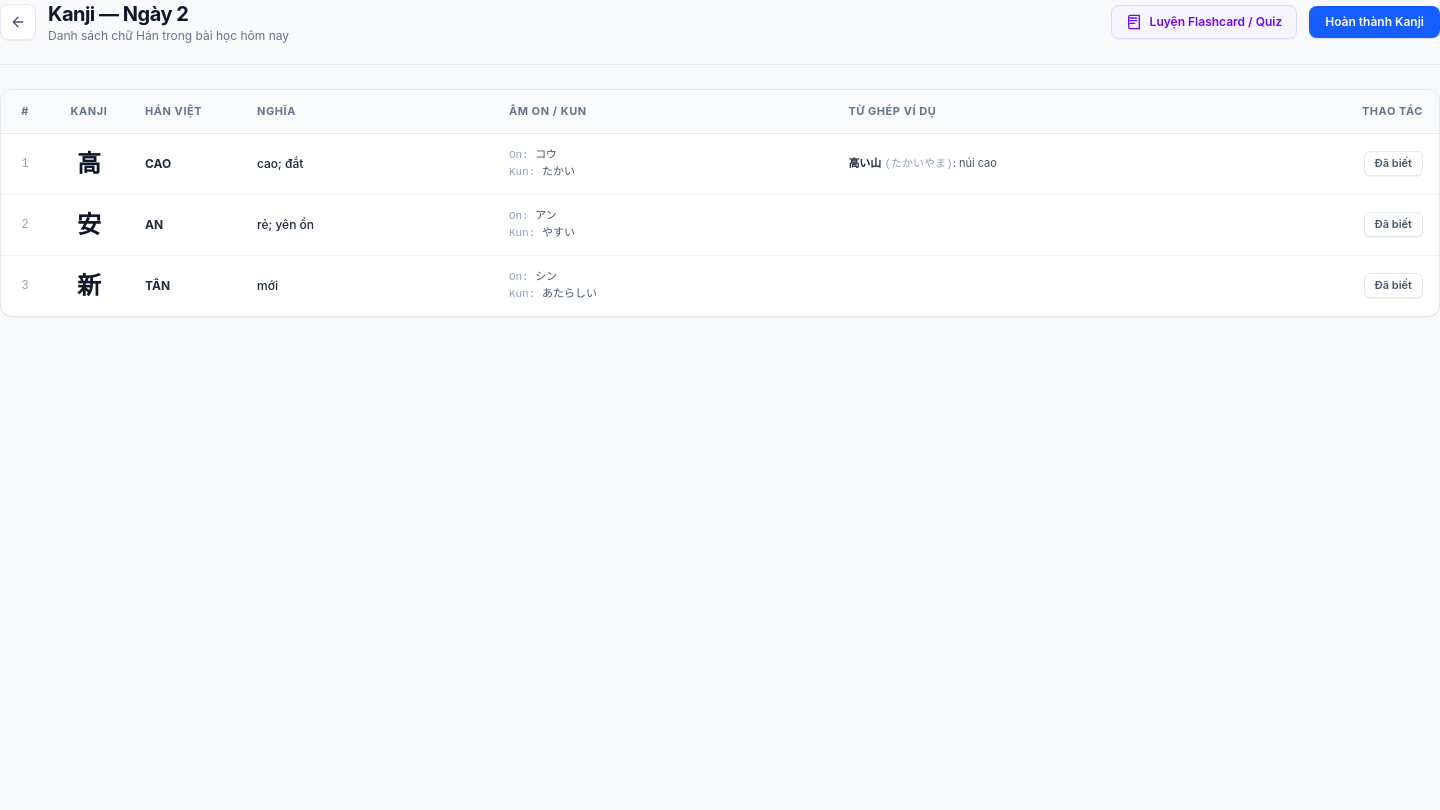
Test case: Milestone F6 — Kanji Real Interaction Tests › marks kanji known and removes only the confirmed item
Check: the row with test id "kanji-row-201" is shown, box [1,133,1439,194]
Check: the row with test id "kanji-row-202" is shown, box [1,194,1439,255]
// Click "Đã biết" for first item
Click the button "Đã biết" in the row of "cao; đắt": (1393, 164) [1364,151,1423,176]
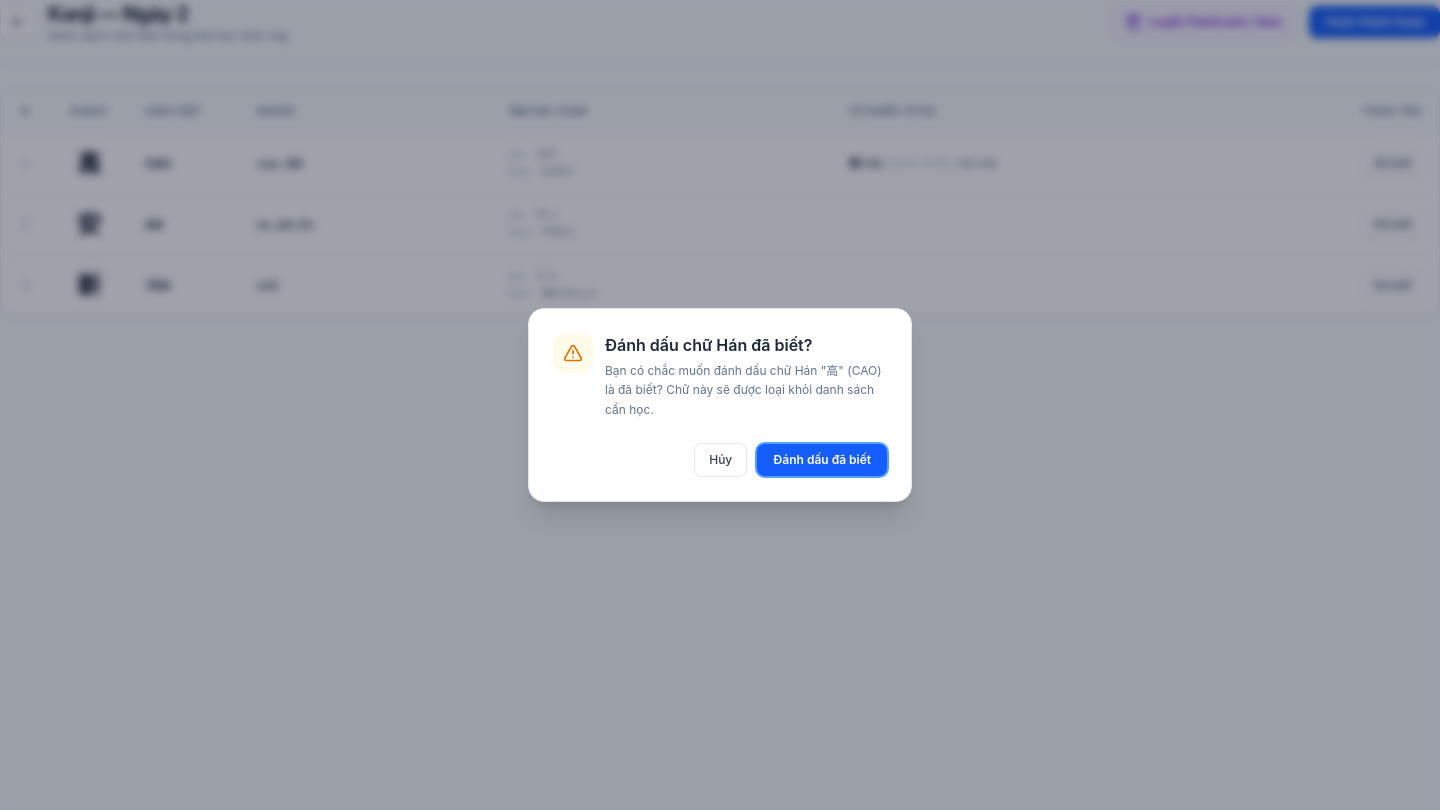
Check: the heading "Đánh dấu chữ Hán đã biết?" is shown, box [605,335,812,355]
// Confirm marking known
Click the button "Đánh dấu đã biết": (822, 460) [757,444,887,476]
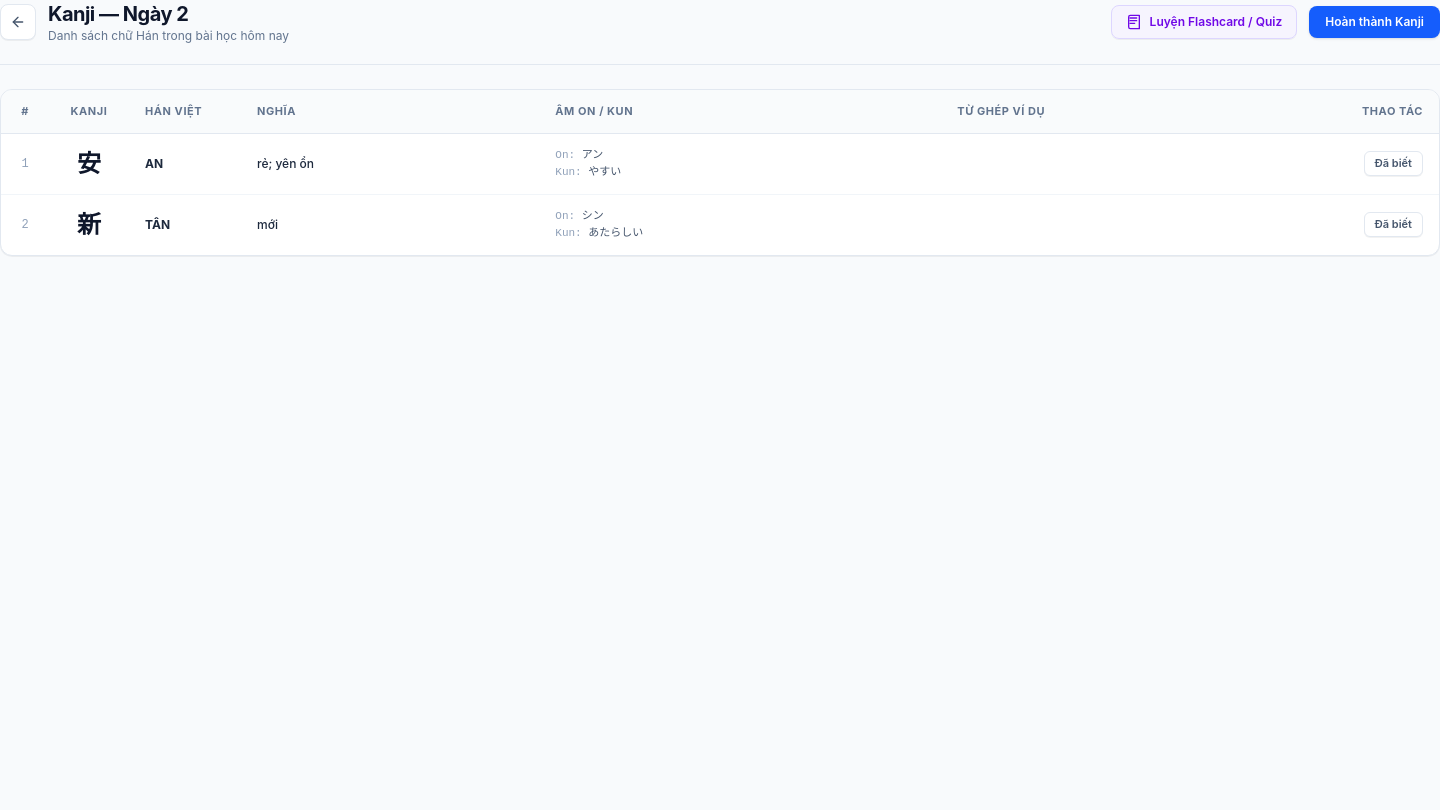
Check: the row with test id "kanji-row-202" is shown, box [1,133,1439,194]
Check: the row with test id "kanji-row-201" is gone
